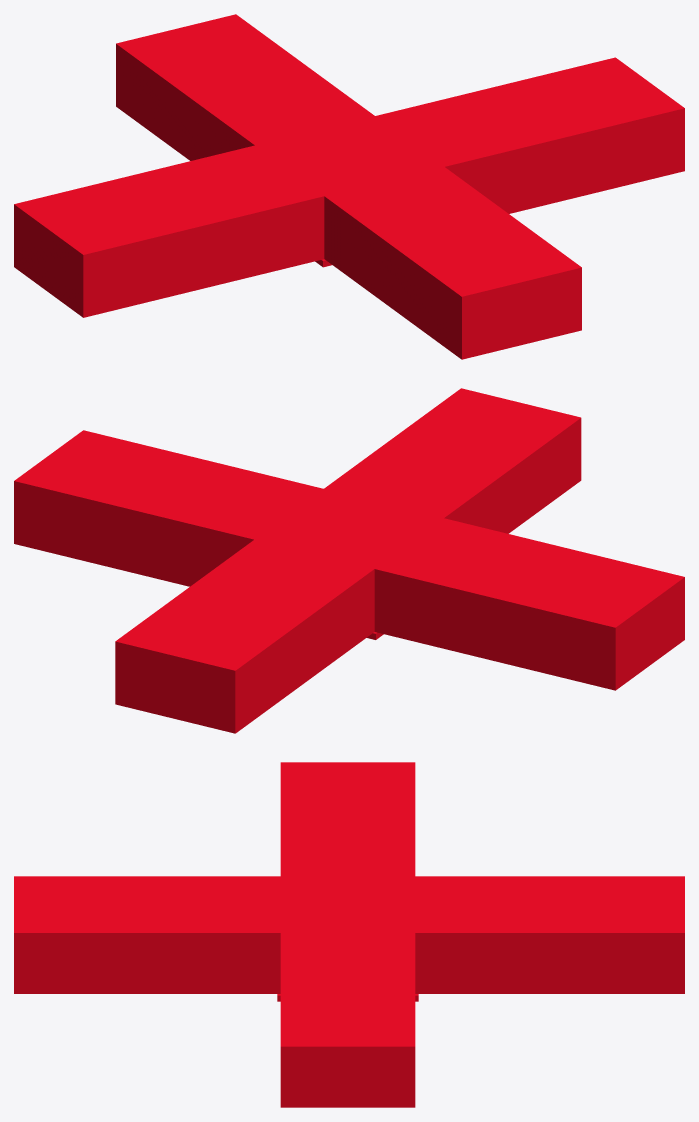
Rendered from Edge Indicator.fbx.
3 views of the same model, one above another, from view 1: azimuth 30°, elevation 25°; view 2: azimuth 150°, elevation 25°; view 3: azimuth 270°, elevation 25° (orthographic). The views are drawn at different scales.
Visible parts, largest first — view 1: building_001; view 2: building_001; view 3: building_001.
Boxes of the visible parts, left/top/right/bottom form: building_001: left=14, top=14, right=684, bottom=359; building_001: left=14, top=388, right=684, bottom=733; building_001: left=14, top=762, right=684, bottom=1107.
Bounding box in the file's own units: 2002 × 220 × 1994.
